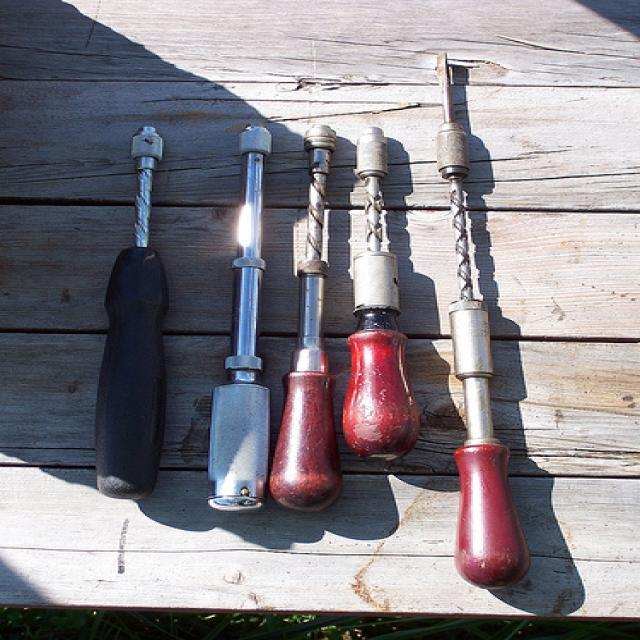screwdriver: (418, 46, 542, 594), (75, 113, 187, 488), (285, 114, 343, 524), (351, 117, 416, 474), (217, 124, 262, 510)
